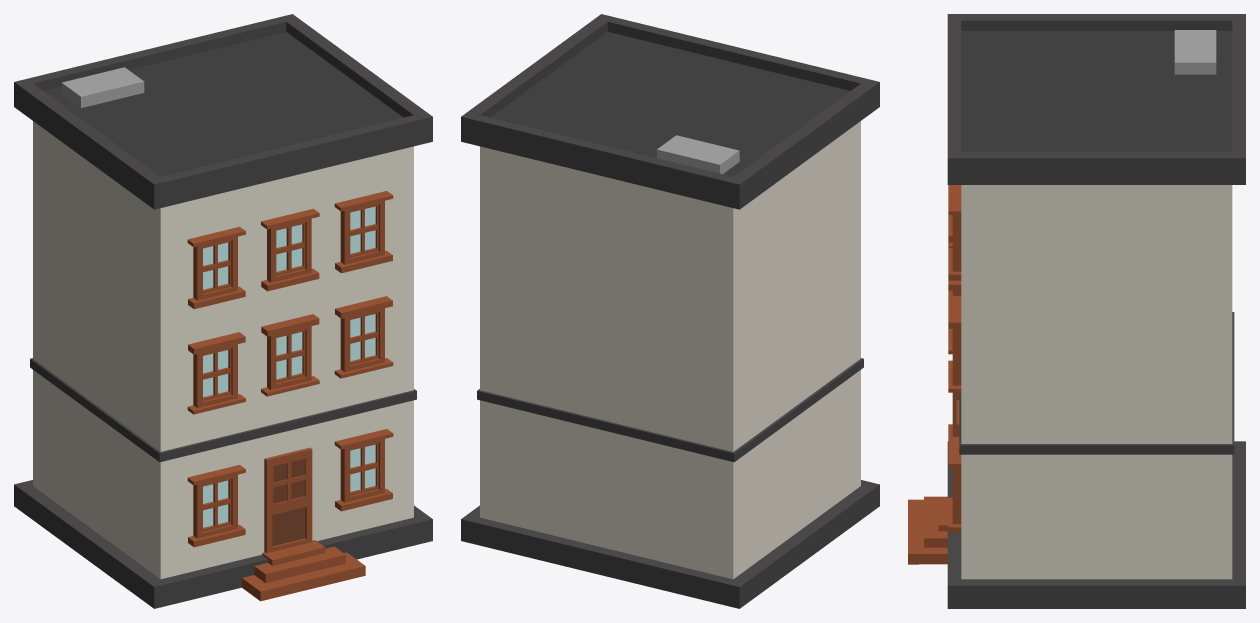
Rendered from Flat.glb.
3 renders of one model, left to right at view 1: azimuth 30°, elevation 25°; view 2: azimuth 150°, elevation 25°; view 3: azimuth 270°, elevation 25°, orthographic. The views are drawn at different scales.
Parts seen in each view (by area): view 1: Flat1; view 2: Flat1; view 3: Flat1.
Part boxes in pixels (box(x1,y1,x2,y2)): Flat1: box(14, 14, 432, 608); Flat1: box(461, 14, 879, 608); Flat1: box(908, 14, 1245, 608).
Bounding box in the file's own units: 2.17 × 3.17 × 2.14.
